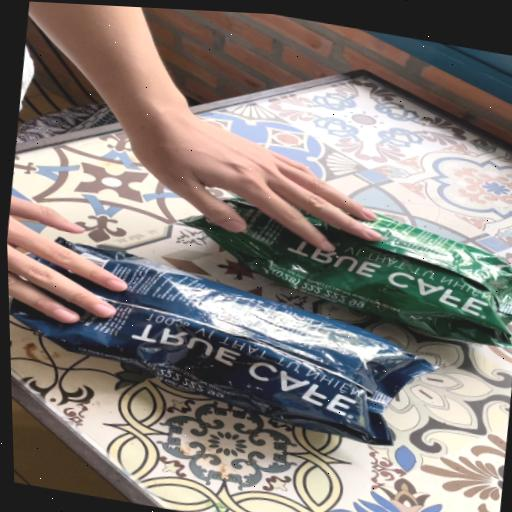cafe_hat: (9, 238, 437, 445)
cafe_xay: (184, 197, 512, 348)
